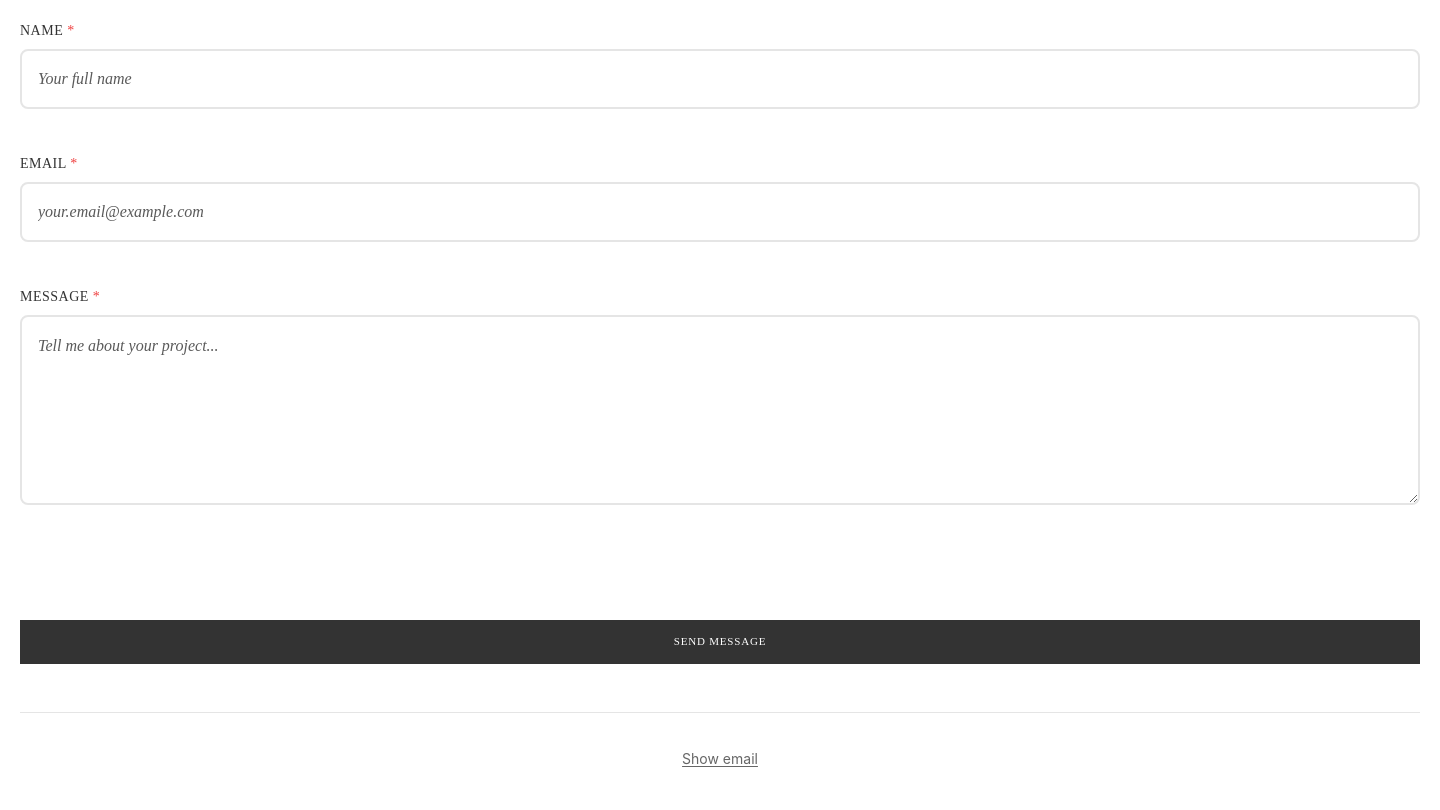
it: MobileContactForm › Form Validation › should_show_error_for_empty_required_email_field
Type "John Doe" into the field labelled "Name *". click: (720,79)
box: [20,49,1420,109]
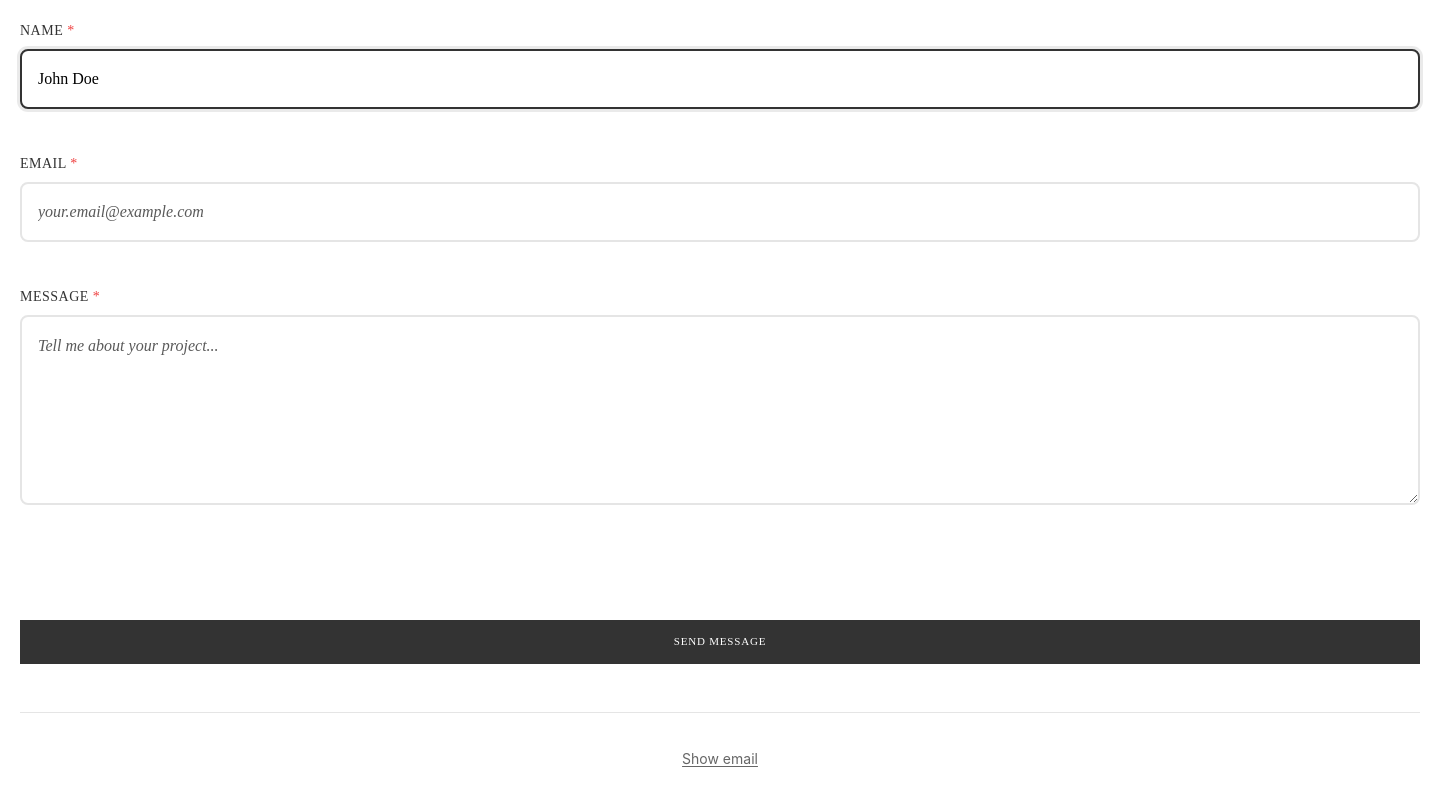
Type "Valid message" into the text box labelled "Message *". click: (720,410)
box: [20,315,1420,505]
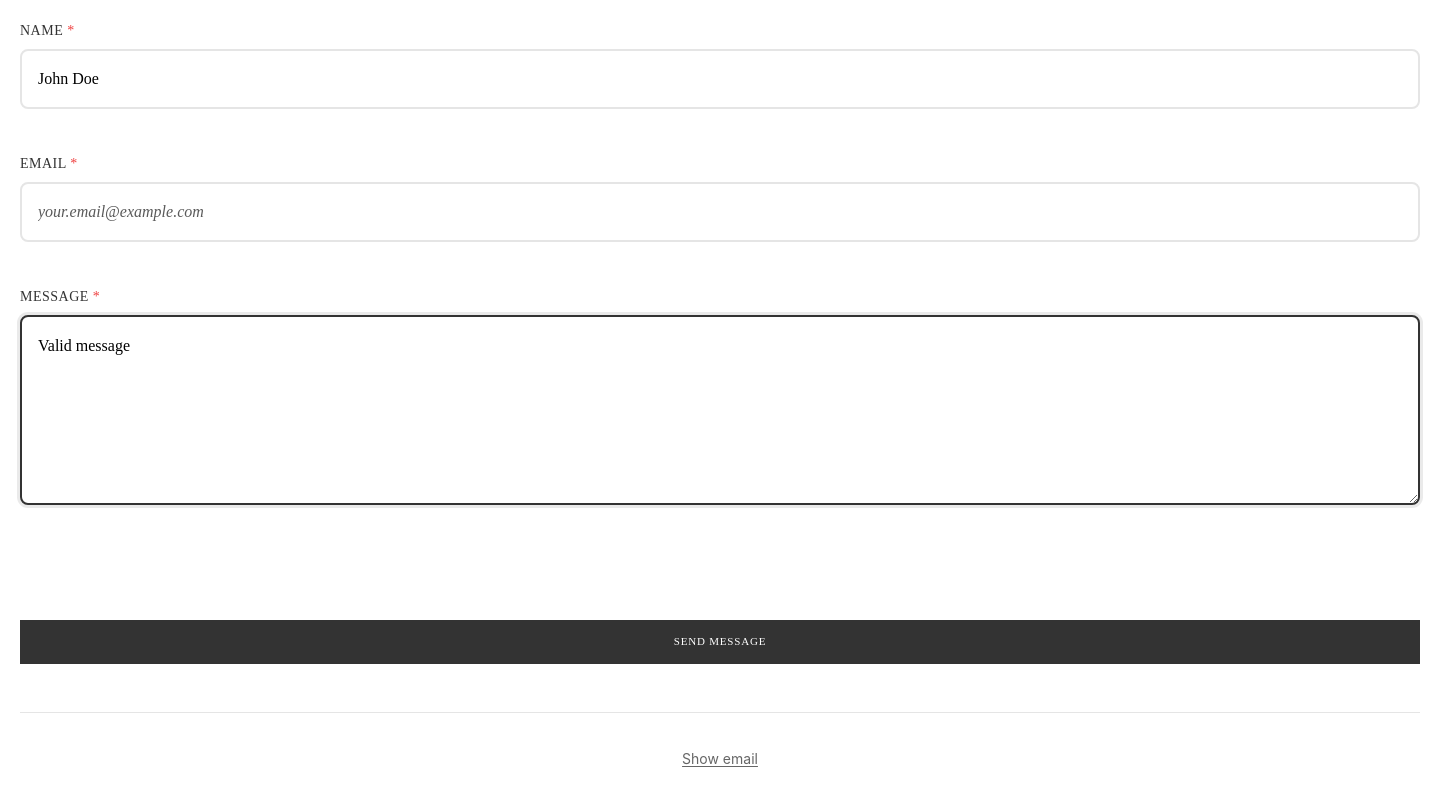
Click the button "Send Message". click: (720,642)
box: [20,620,1420,664]
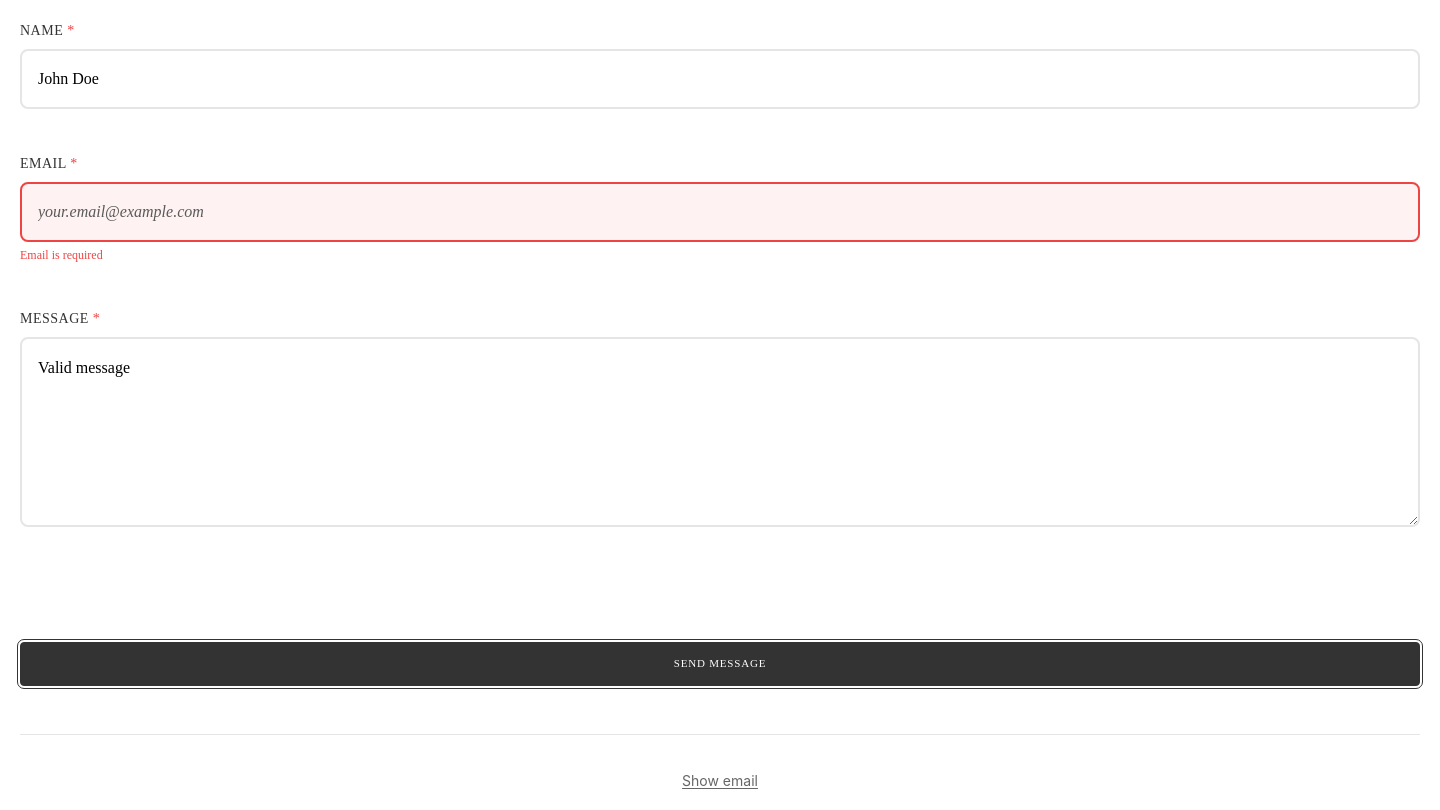
Expected: the text "Email is required" is shown, [20,248,103,262]
